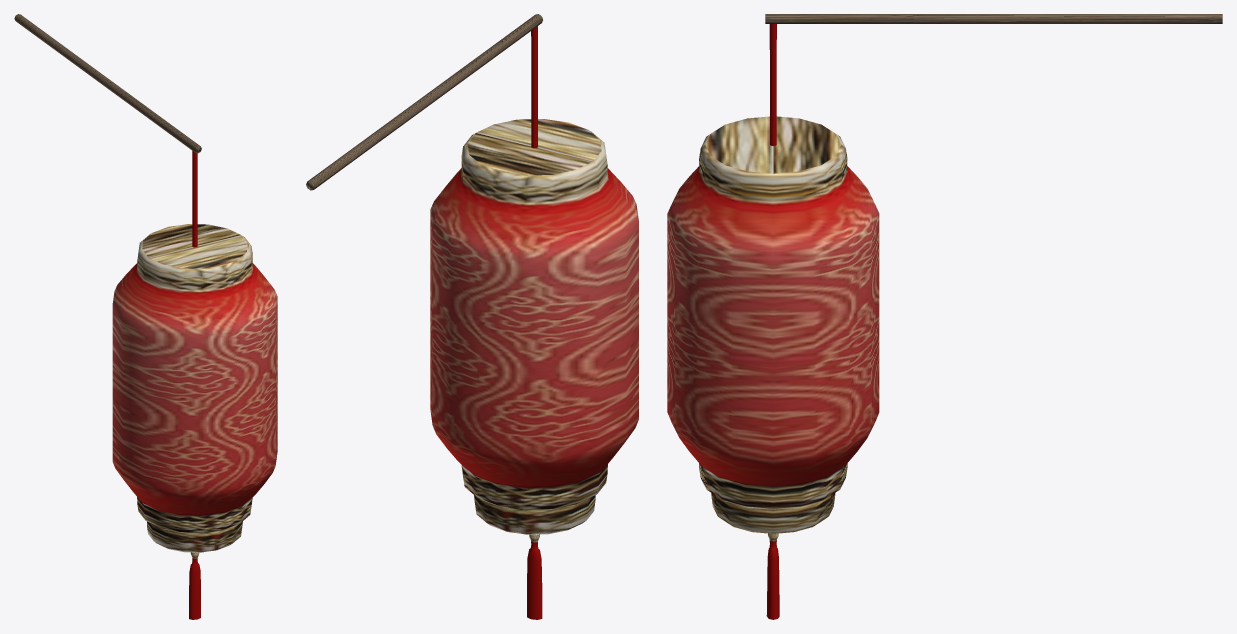
File: Lantern1.fbx
3 renders of one model, left to right at view 1: azimuth 30°, elevation 25°; view 2: azimuth 150°, elevation 25°; view 3: azimuth 270°, elevation 25°, orthographic. The views are drawn at different scales.
Parts seen in each view (by area): view 1: Lantern1; view 2: Lantern1; view 3: Lantern1.
Boxes of the visible parts, box(x1,y1,x2,y2) form: Lantern1: box(14, 14, 277, 619); Lantern1: box(306, 14, 638, 619); Lantern1: box(667, 14, 1222, 619).
Size of the model in its own units: 0.1854 by 0.5808 by 0.4856.
3 materials, 2 textured.
